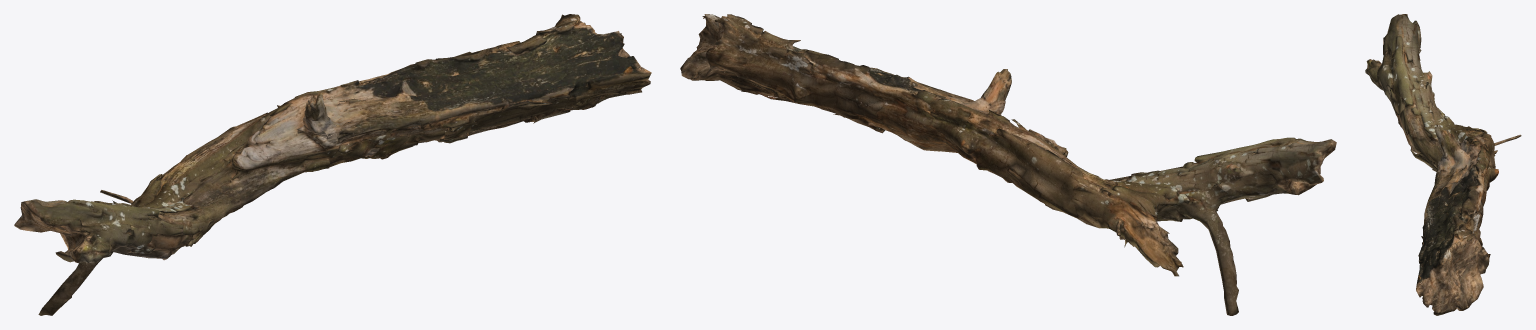
The model's file is fallen_log.glb.
3 renders of one model, left to right at view 1: azimuth 30°, elevation 25°; view 2: azimuth 150°, elevation 25°; view 3: azimuth 270°, elevation 25°, orthographic. The views are drawn at different scales.
Visible parts, largest first — view 1: dead_tree_trunk_02; view 2: dead_tree_trunk_02; view 3: dead_tree_trunk_02.
Boxes of the visible parts, left/top/right/bottom form: dead_tree_trunk_02: left=14, top=14, right=651, bottom=315; dead_tree_trunk_02: left=680, top=14, right=1336, bottom=315; dead_tree_trunk_02: left=1365, top=14, right=1521, bottom=315.
Size of the model in its own units: 4.05 by 1.05 by 1.05.
1 material, 1 textured.
